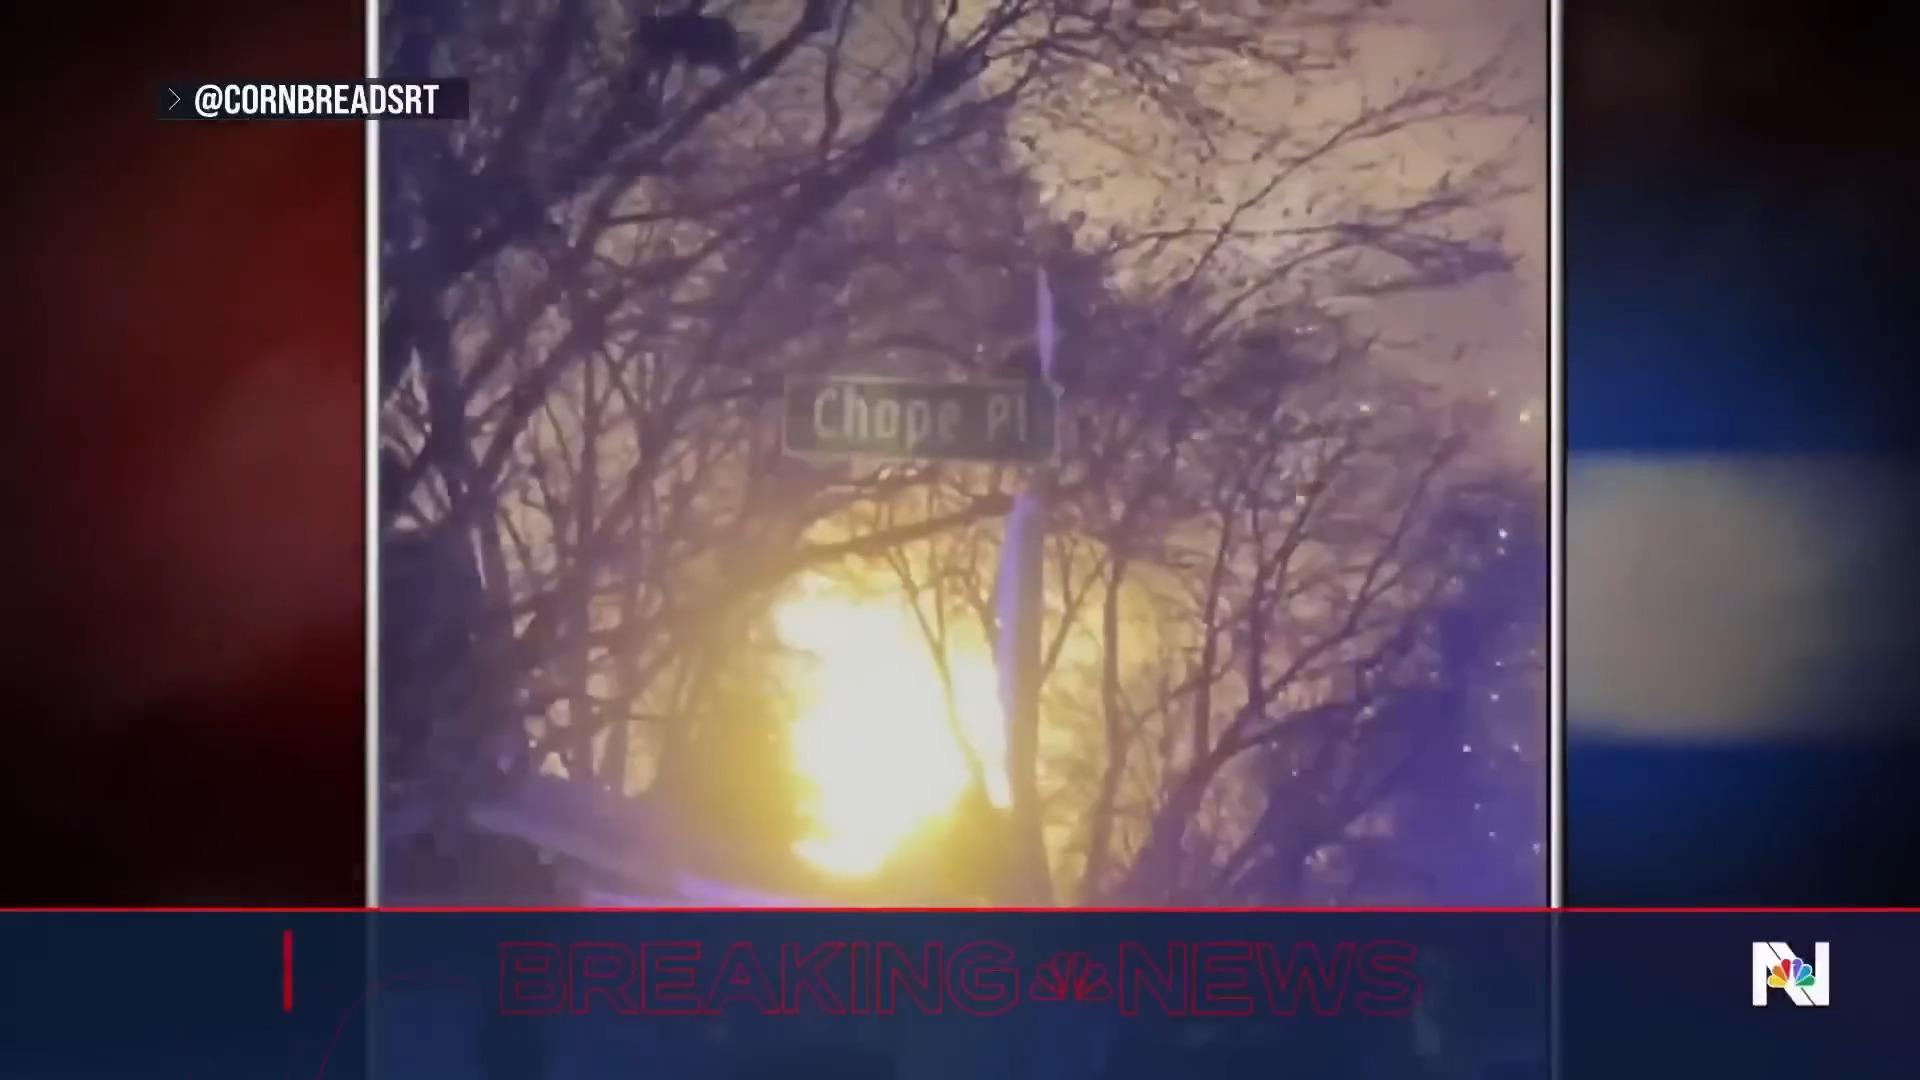fire: (712, 518, 1122, 894)
